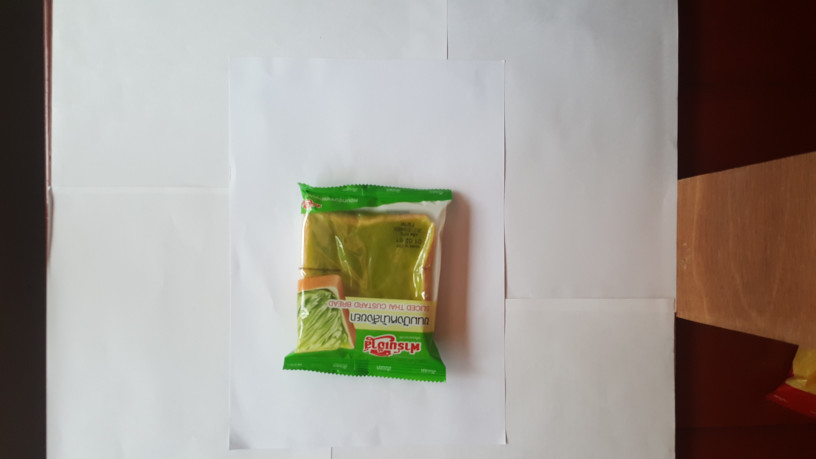farmhouse-bread-pandan: (285, 178, 458, 386)
